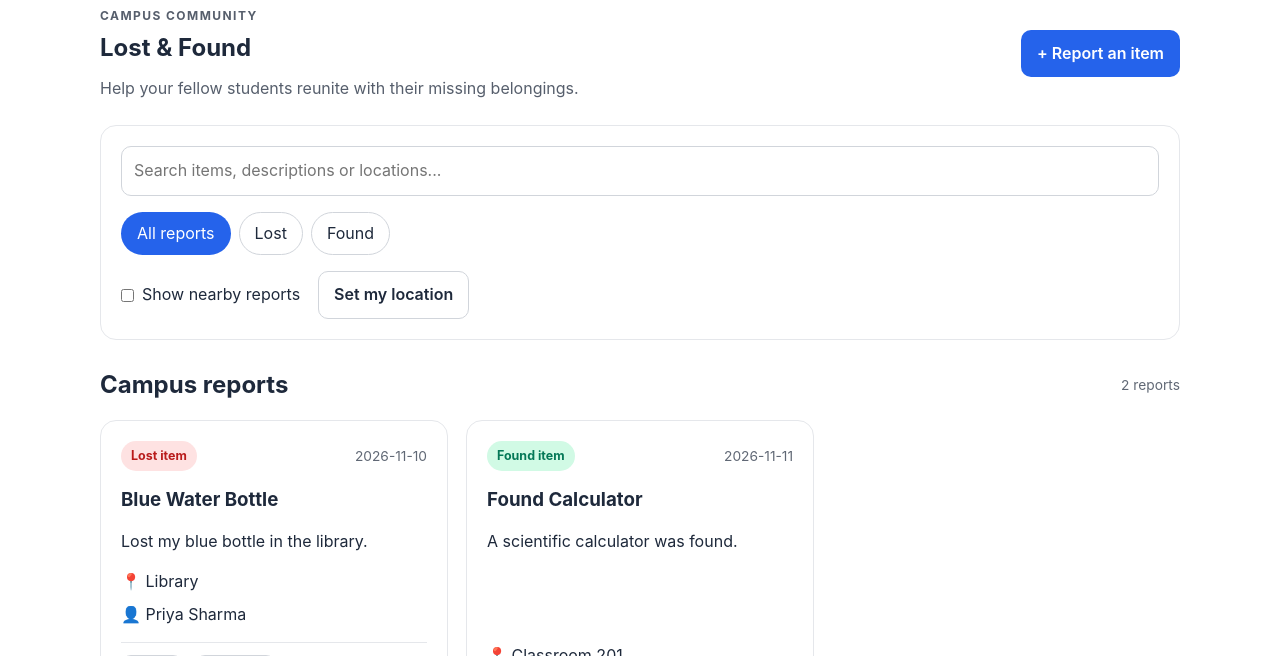
Test: LostFound Page › creates a report with valid details
Click the button "+ Report an item" at {"x": 1100, "y": 54}, box [1021,30,1180,77]
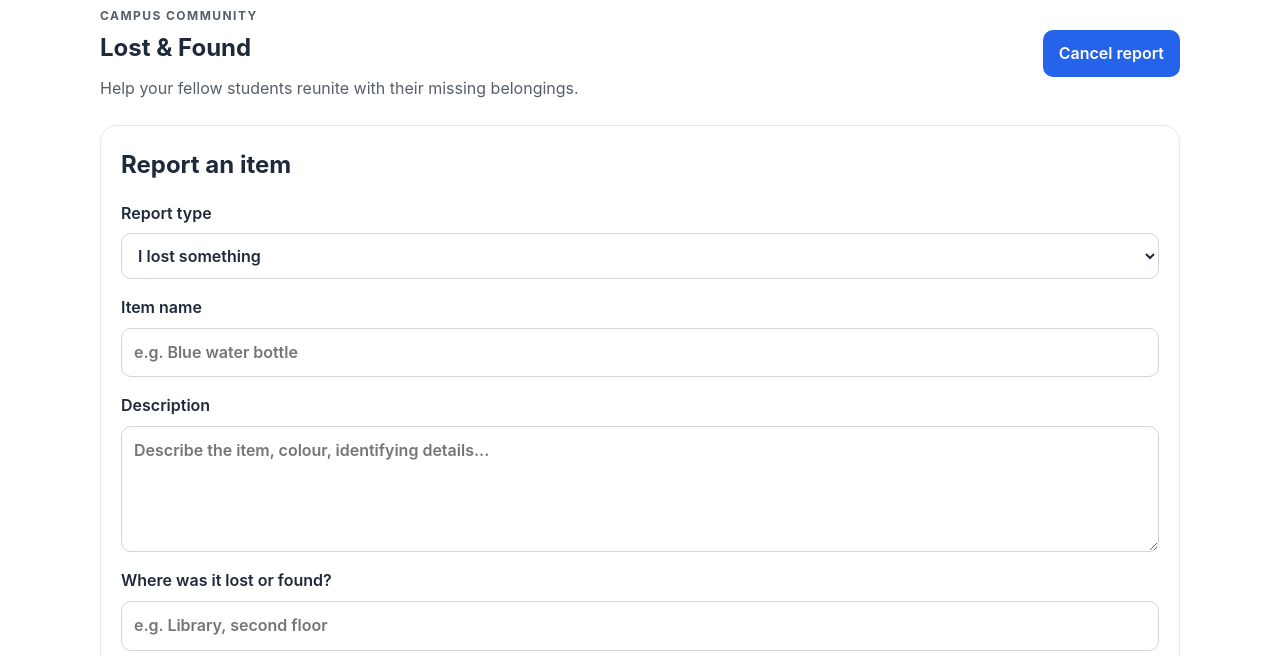
Type "Black Backpack" into the field labelled "Item name" at {"x": 640, "y": 353}, box [121,328,1159,377]
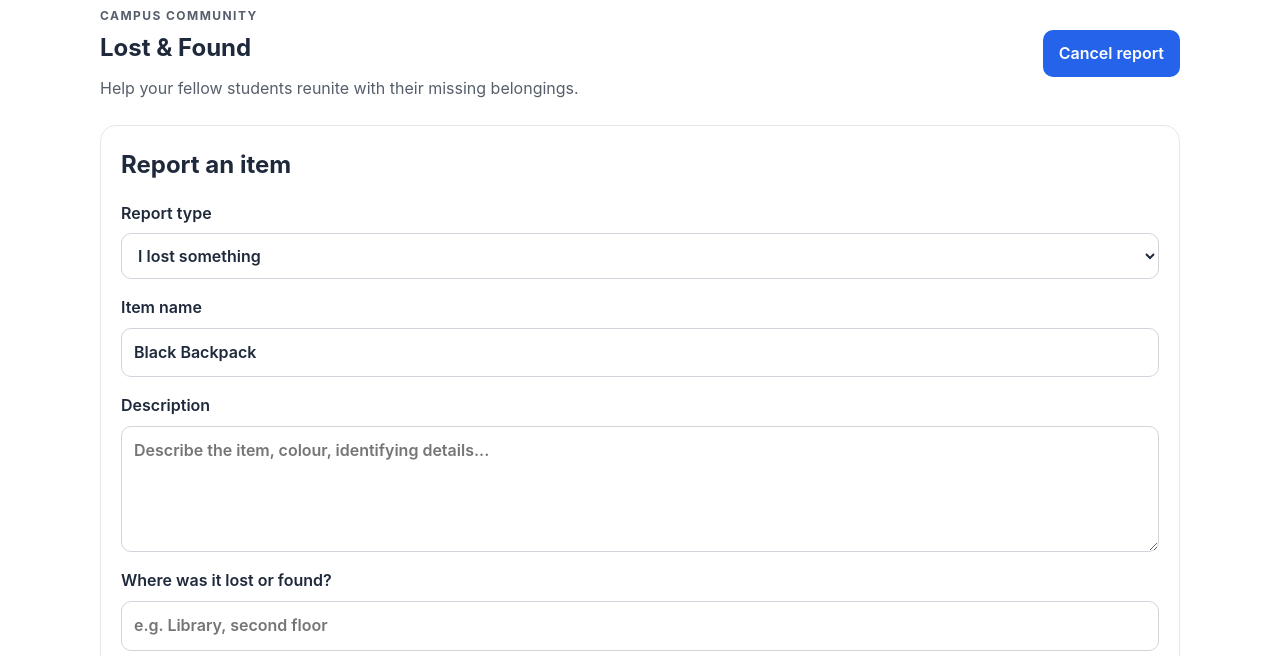
Type "Black backpack with notebooks." into the text box labelled "Description" at {"x": 640, "y": 489}, box [121,426,1159,552]
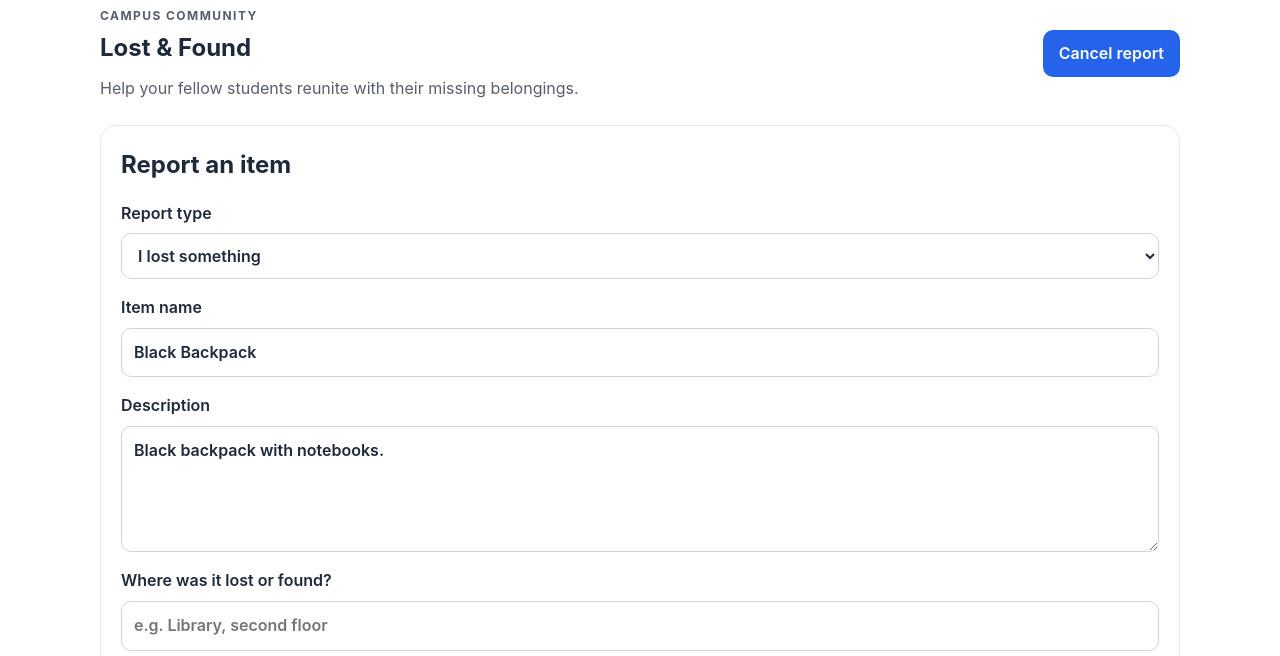
Type "Library" into the field labelled "Where was it lost or found?" at {"x": 640, "y": 626}, box [121,601,1159,650]
(page scrolled)
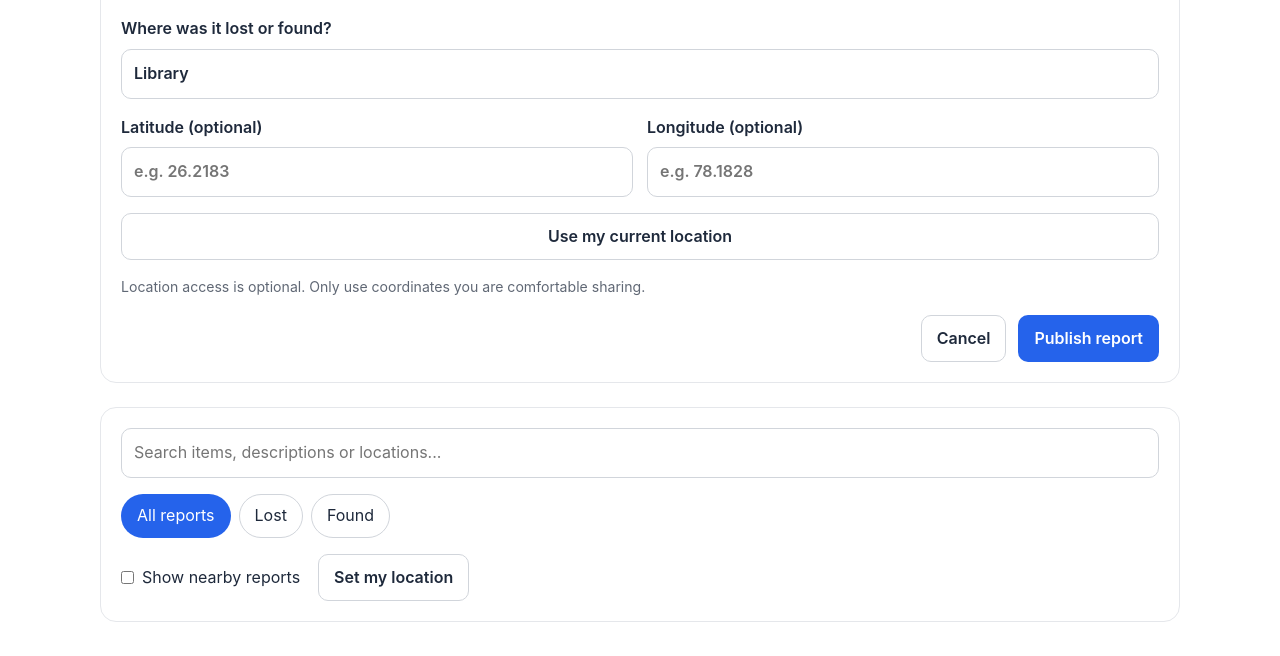
Click the button "Publish report" at {"x": 1089, "y": 339}, box [1018,315,1159,362]
(page scrolled)
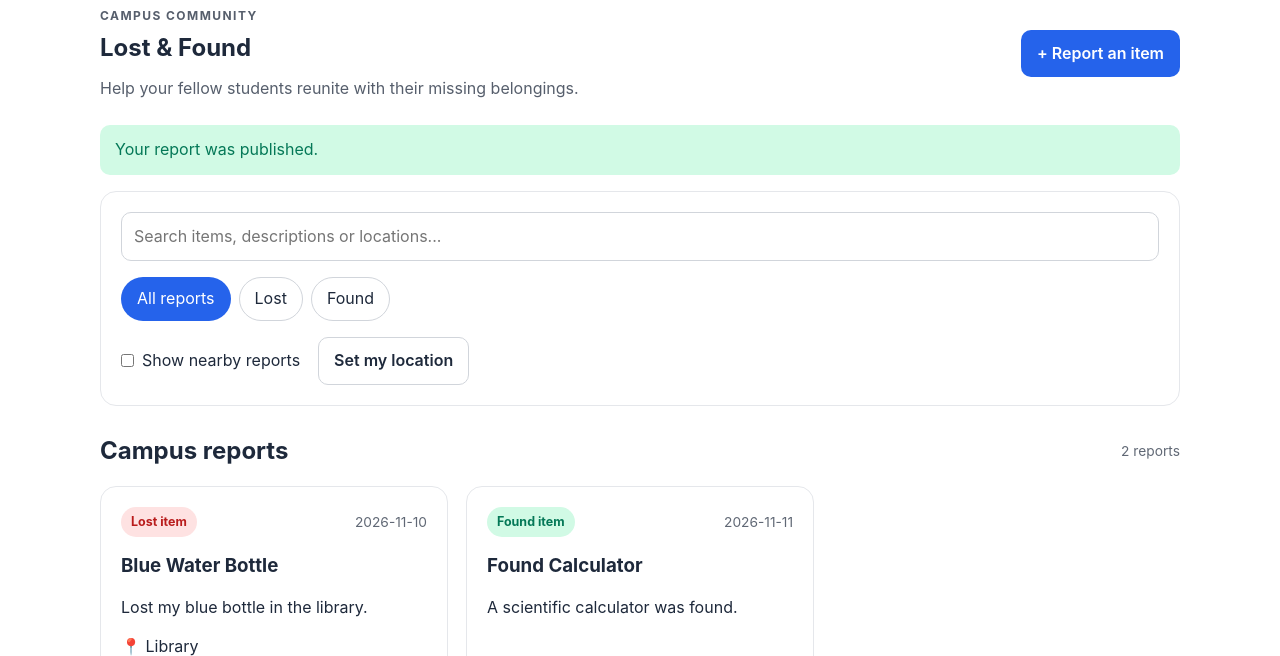
Expected: the message reads "Your report was published.", [115,139,318,159]
